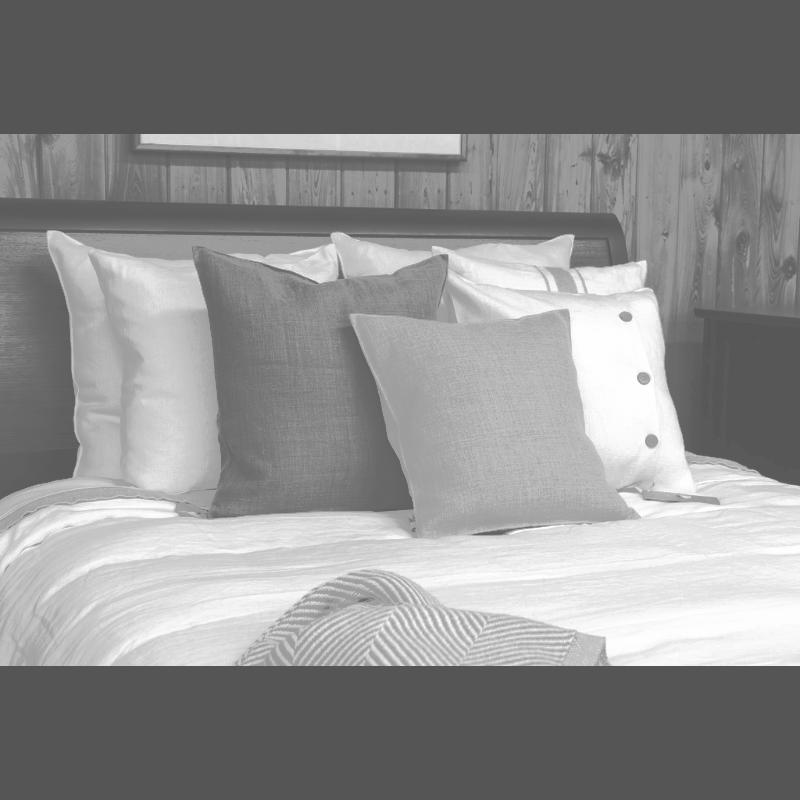pillow: (44, 230, 334, 482), (194, 246, 446, 532), (443, 274, 706, 526), (84, 249, 352, 495), (349, 312, 633, 536), (430, 244, 654, 301), (329, 231, 571, 281)
